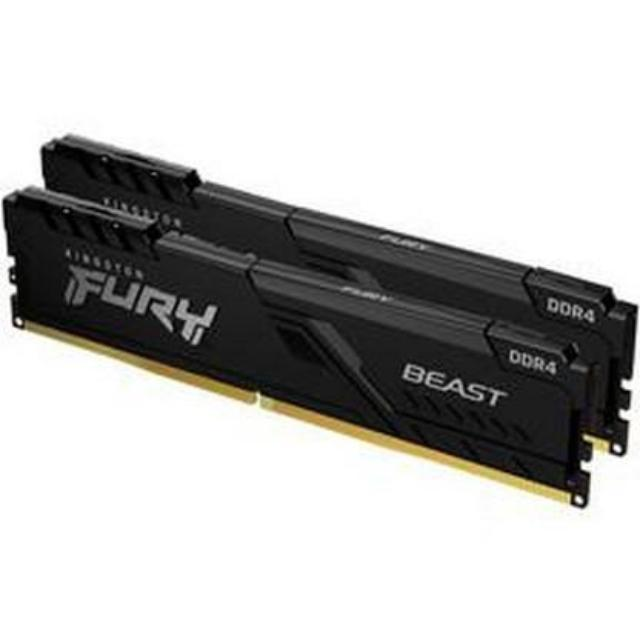RAM: (0, 127, 640, 518)
